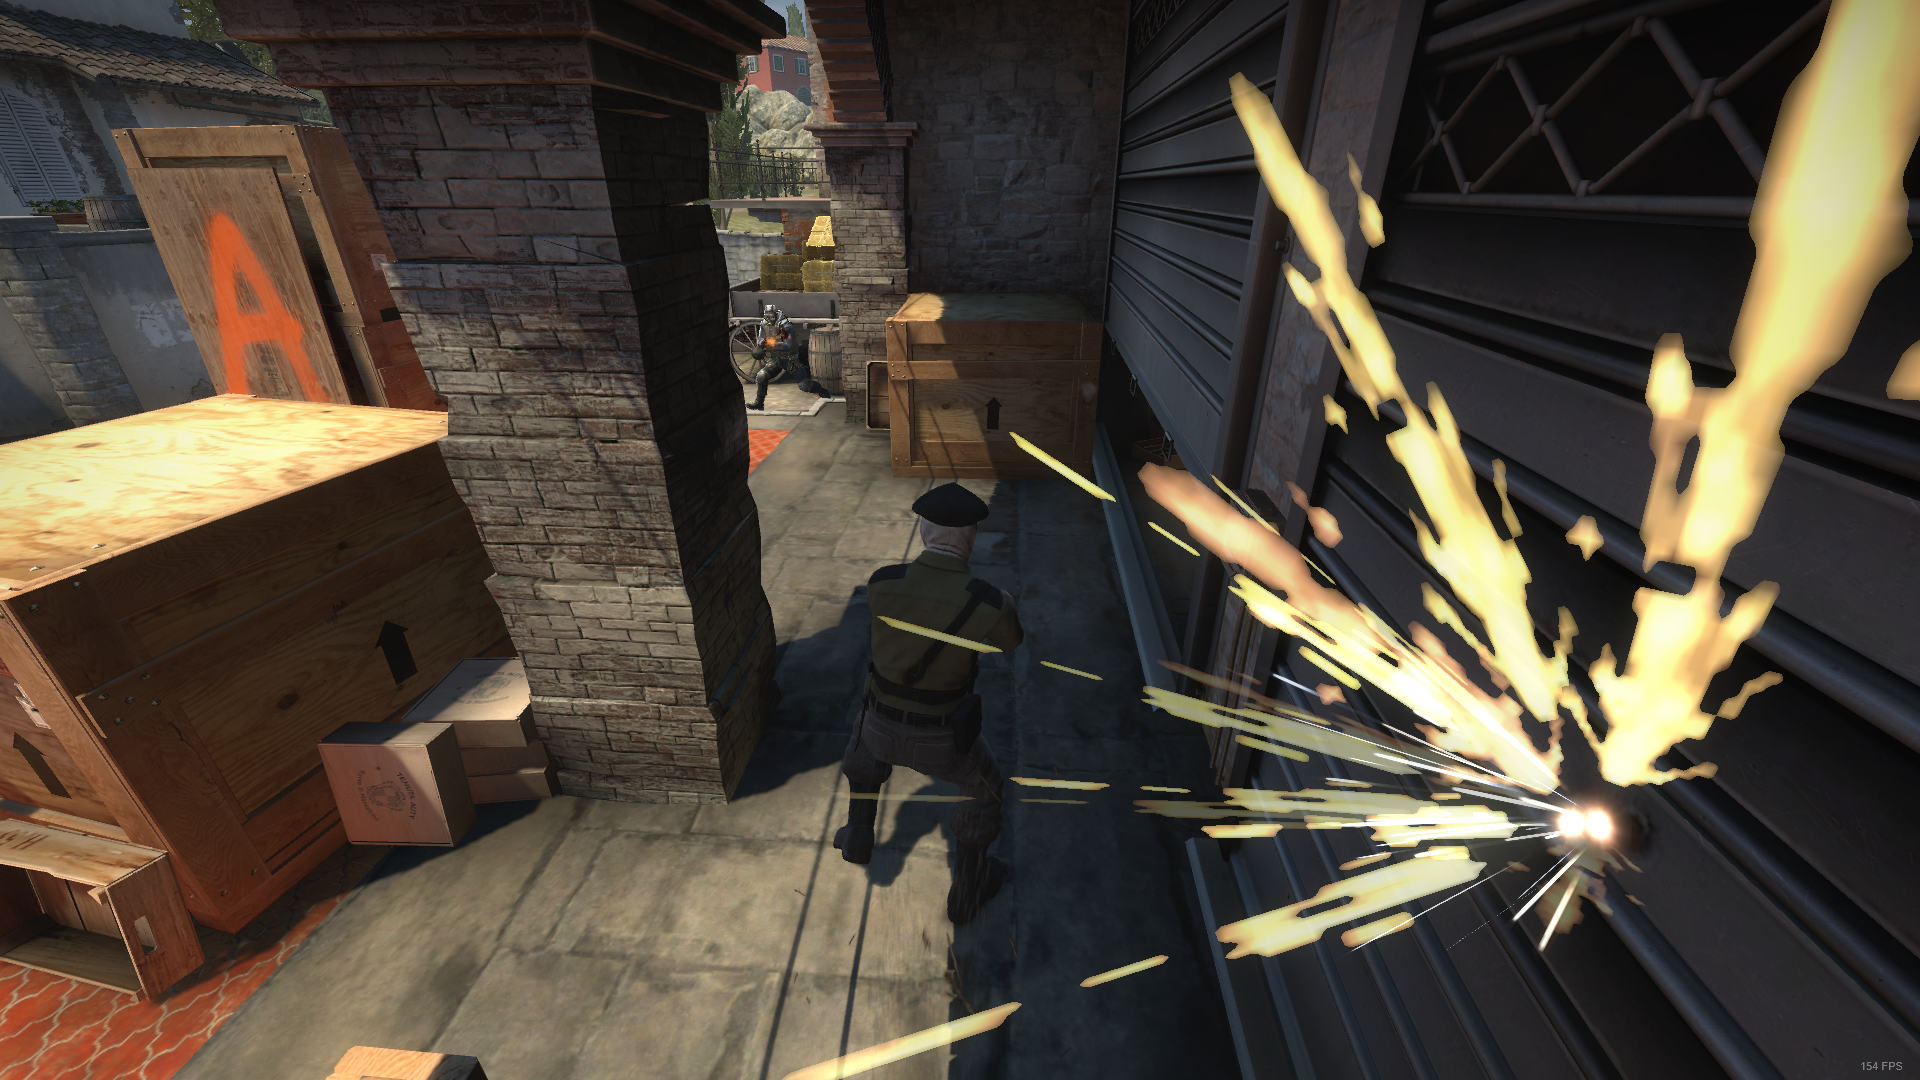ct: (745, 305, 832, 411)
t: (833, 483, 1023, 928)
